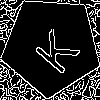K: (26, 21, 81, 77)
